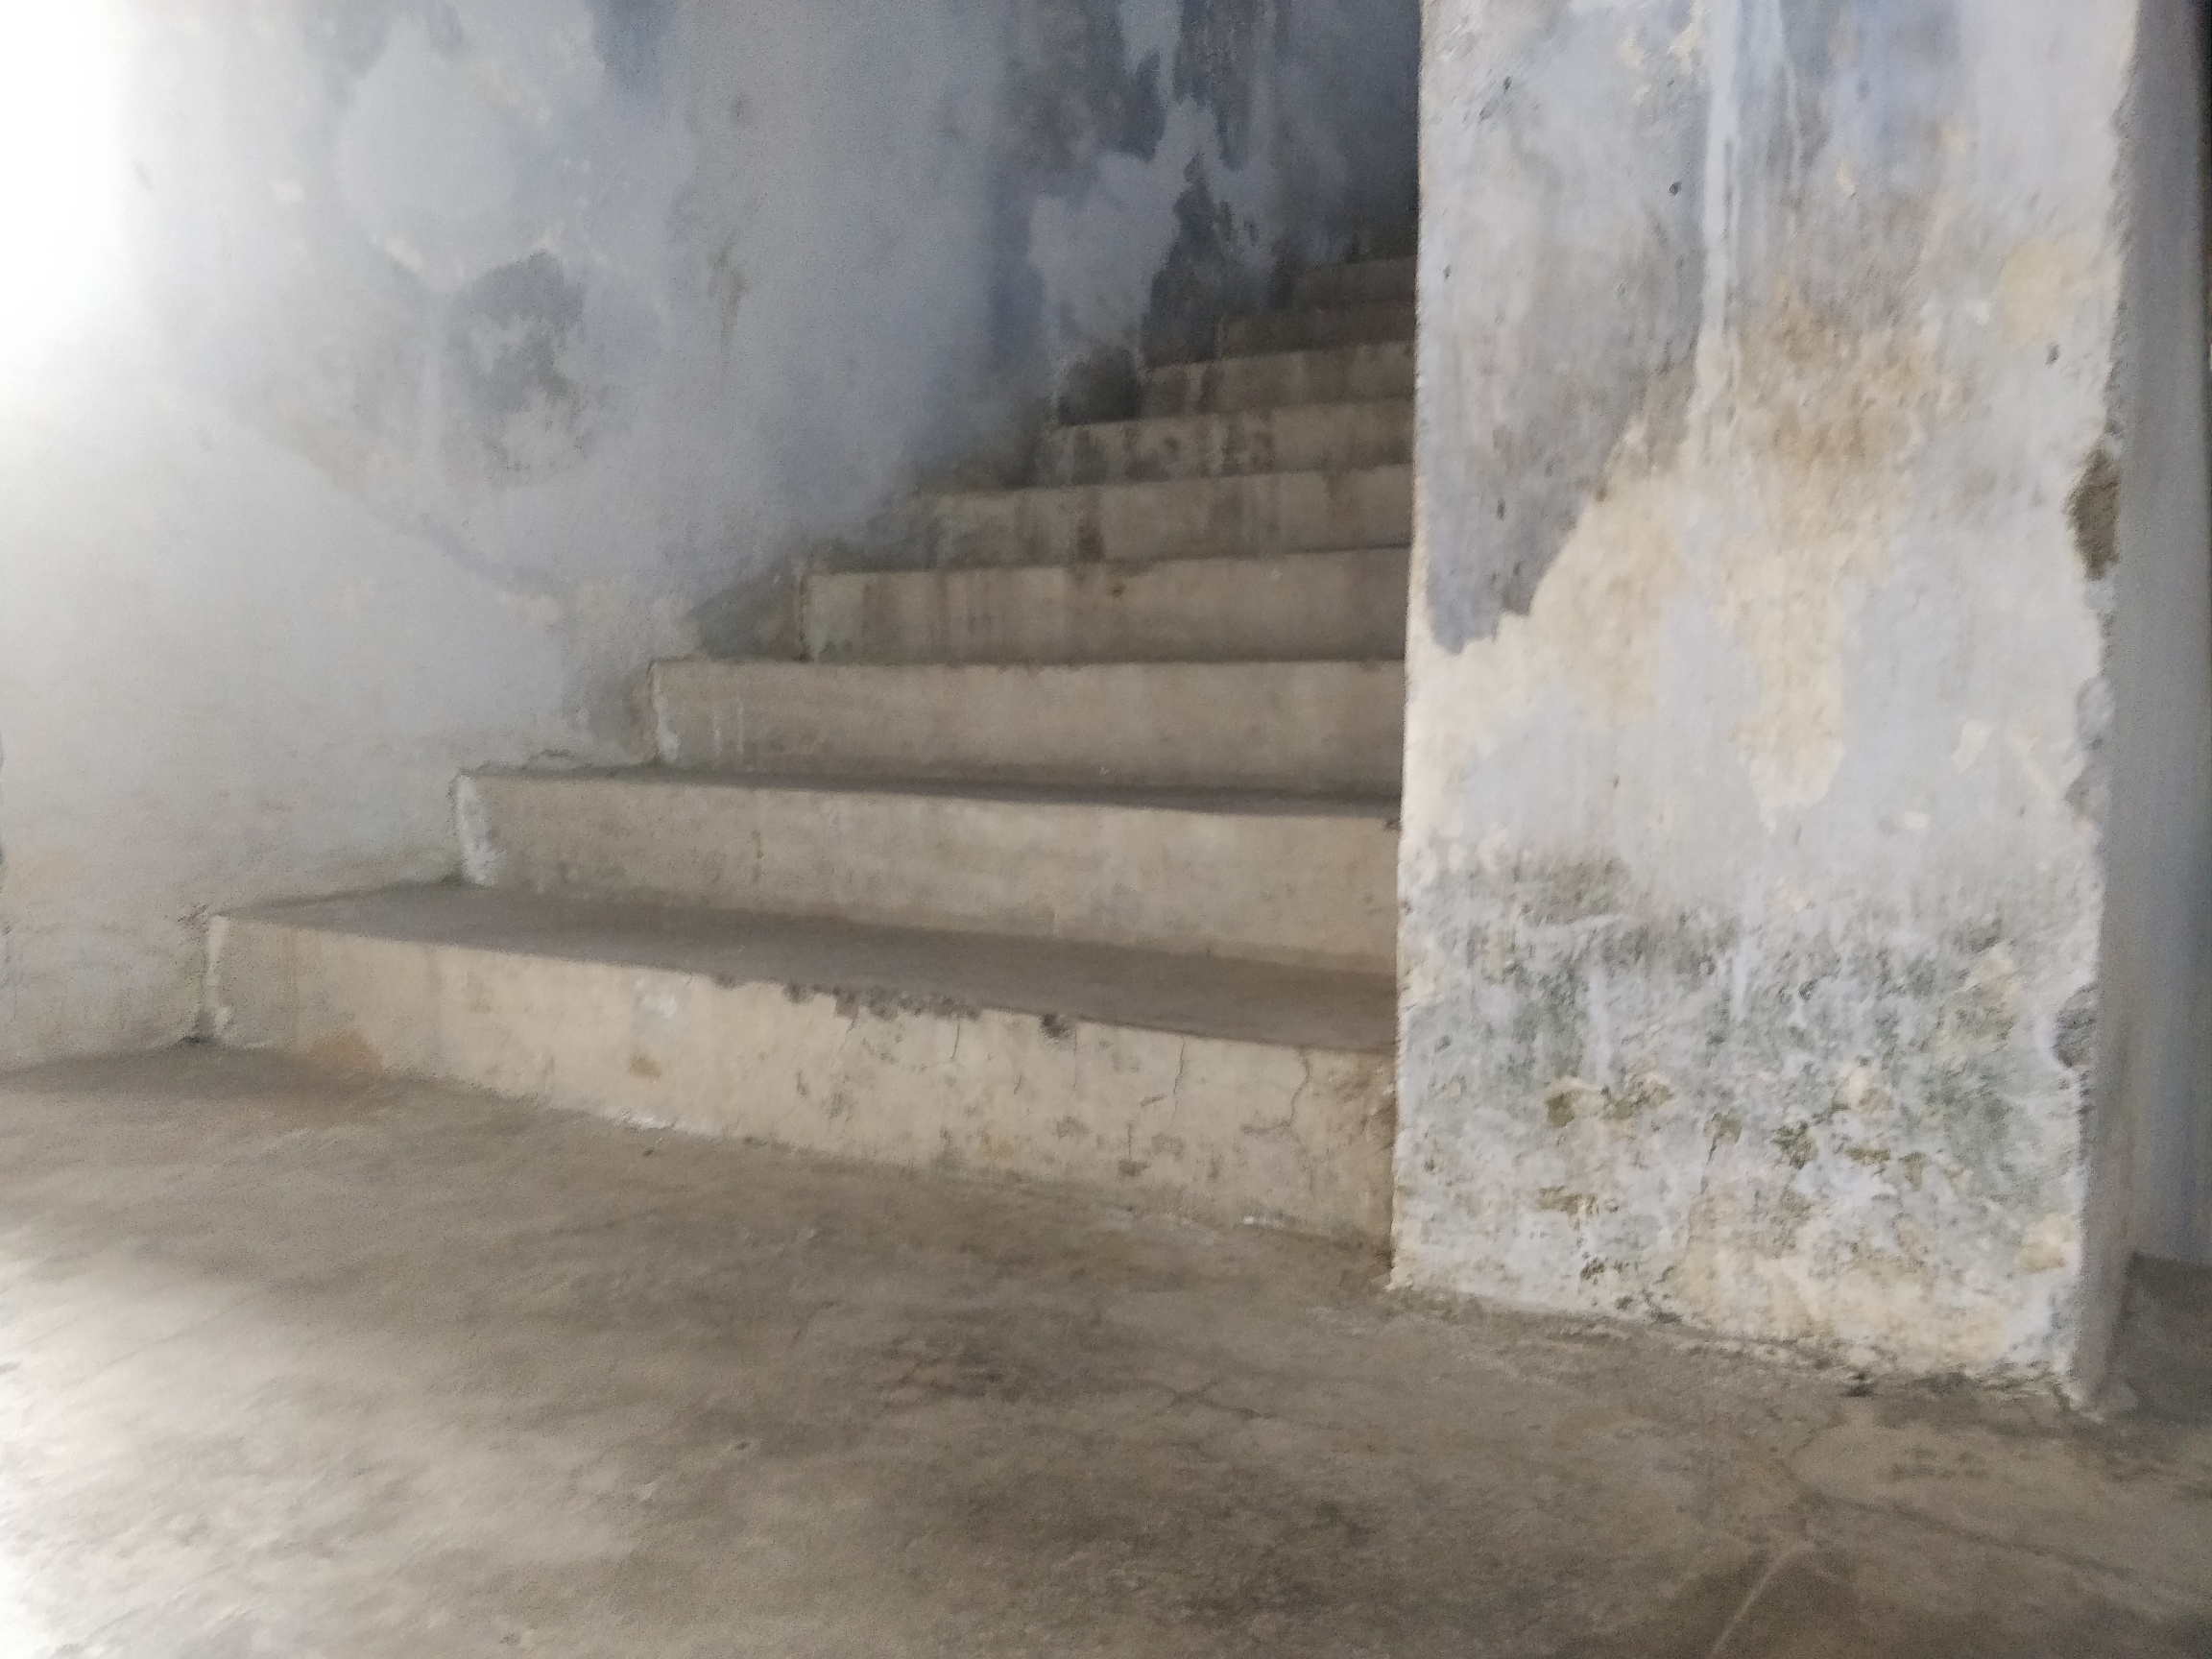stairs_up: (185, 143, 1421, 1187)
